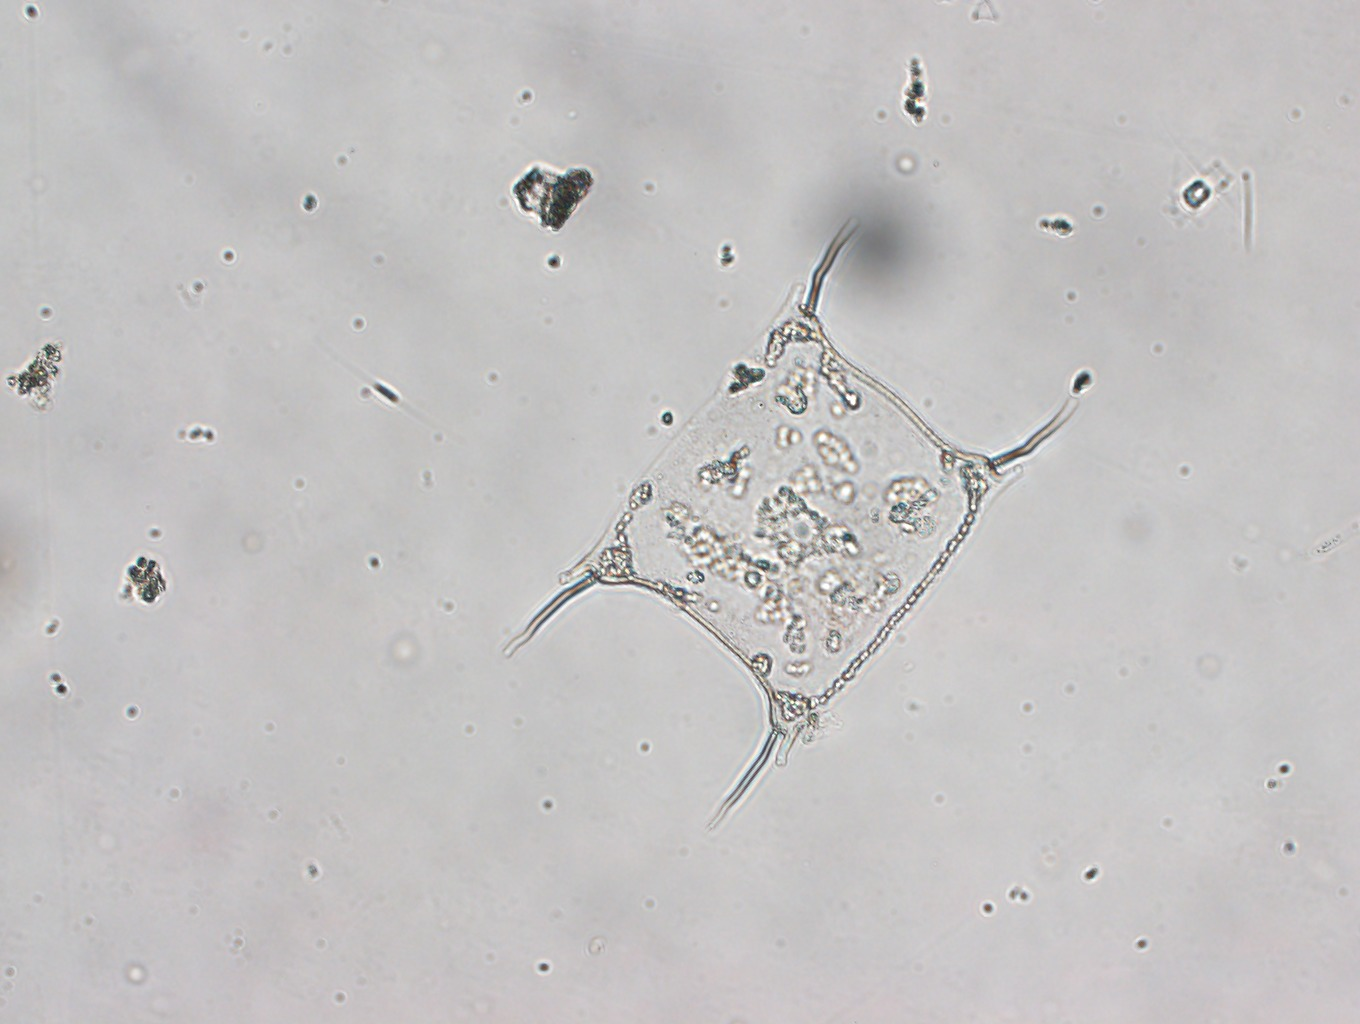biddulphia: (479, 207, 1092, 833)
